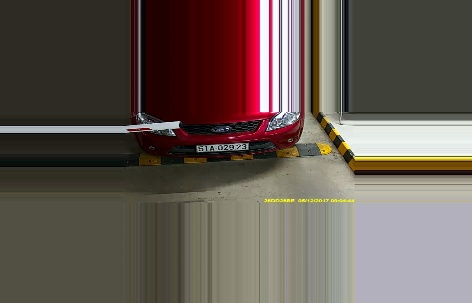plate: (194, 140, 249, 155)
